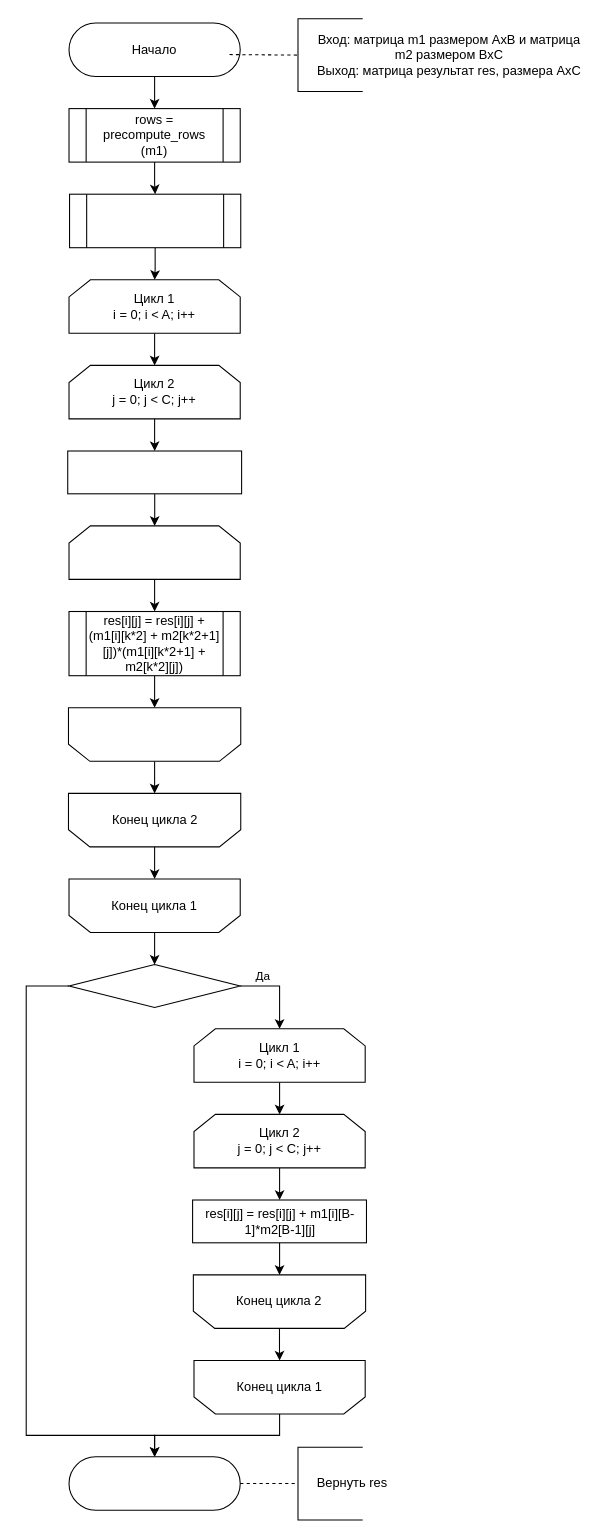
Some shapes in this 601 by 1539 pixel diagram are drawn without their labels. Here are the shapes that lost their labels. From the top down, the centre of each, then its label:
the point at 154,220: cols = precompute_cols (m2)
the point at 154,472: res[i][j] = - rows[i] - cols[j]
the point at 154,552: Цикл 3 k = 0; k < B/2; k++
the point at 154,734: Конец цикла 3
the point at 154,985: B - четное?
the point at 154,1483: Конец
